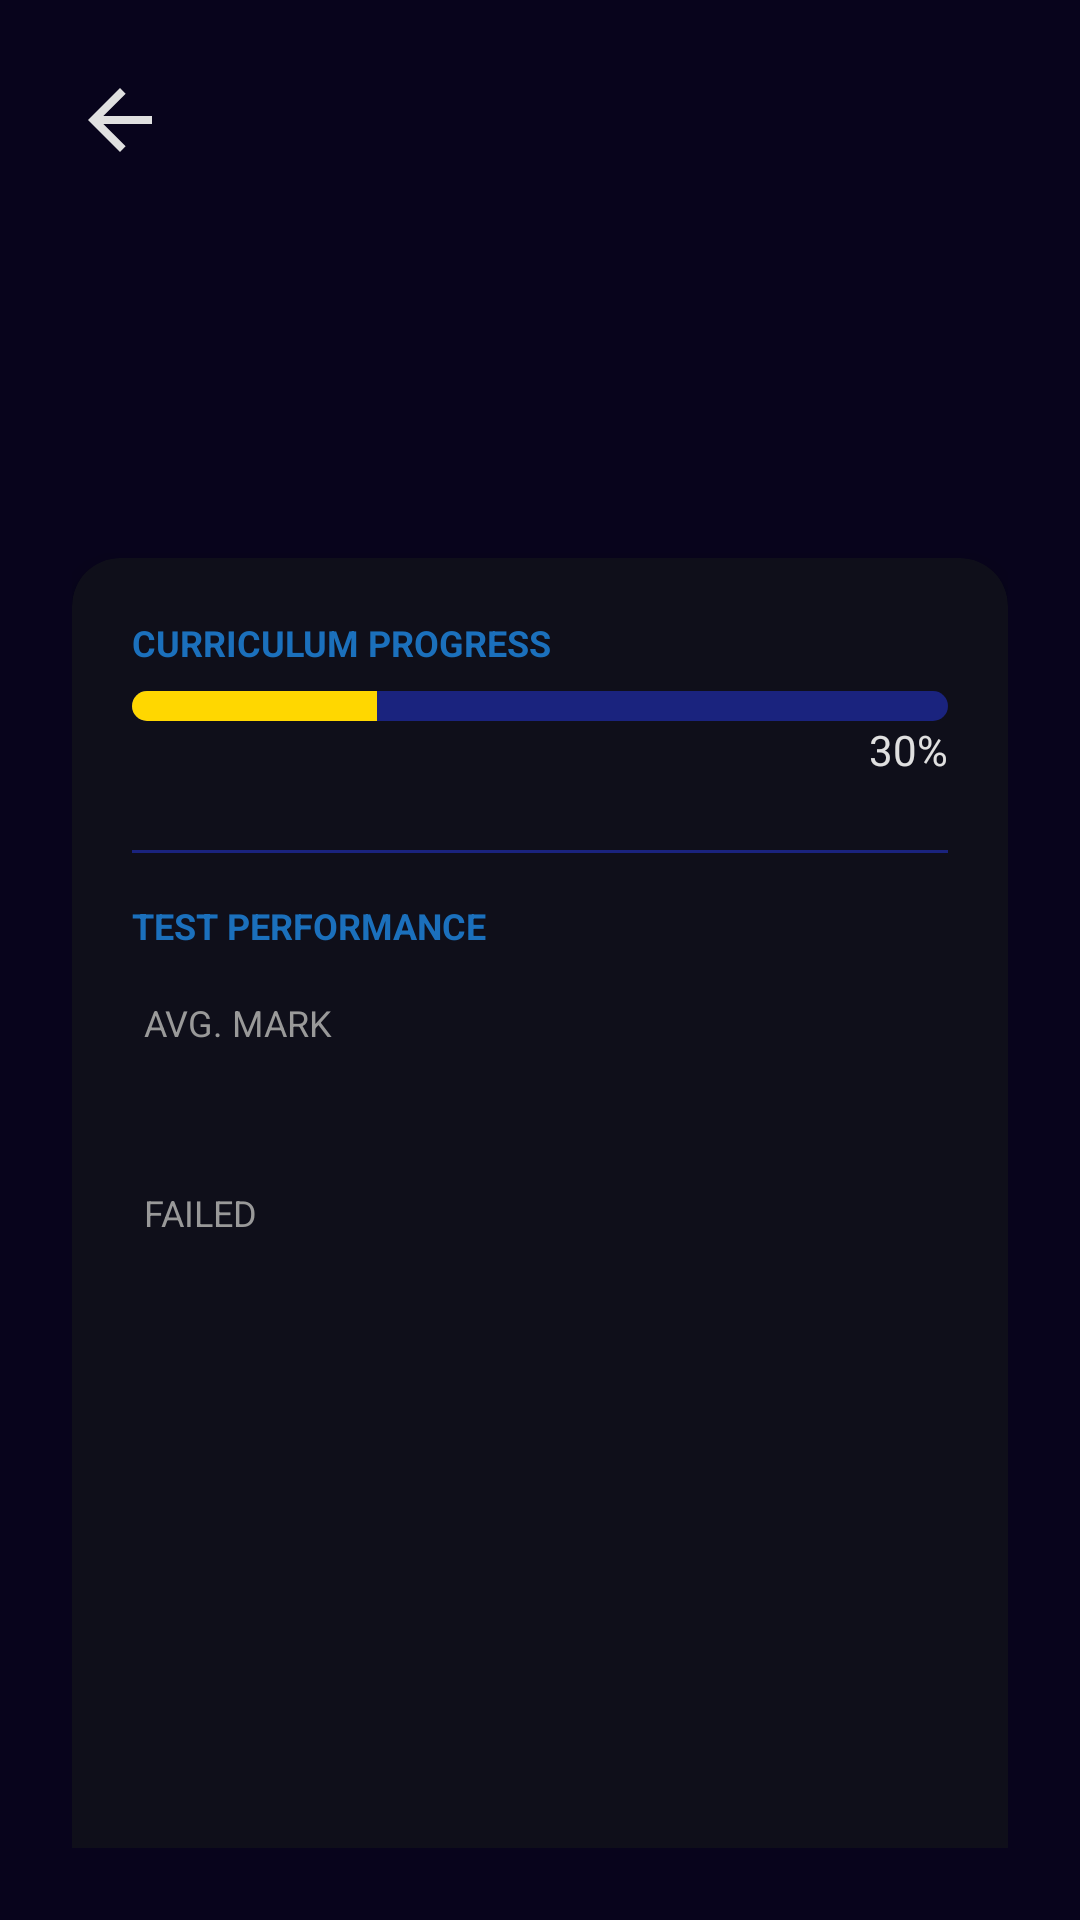

Where to tap for icons on this 1080px x 1920px app screen, as point (x, y):
Go Back: point (120, 120)
